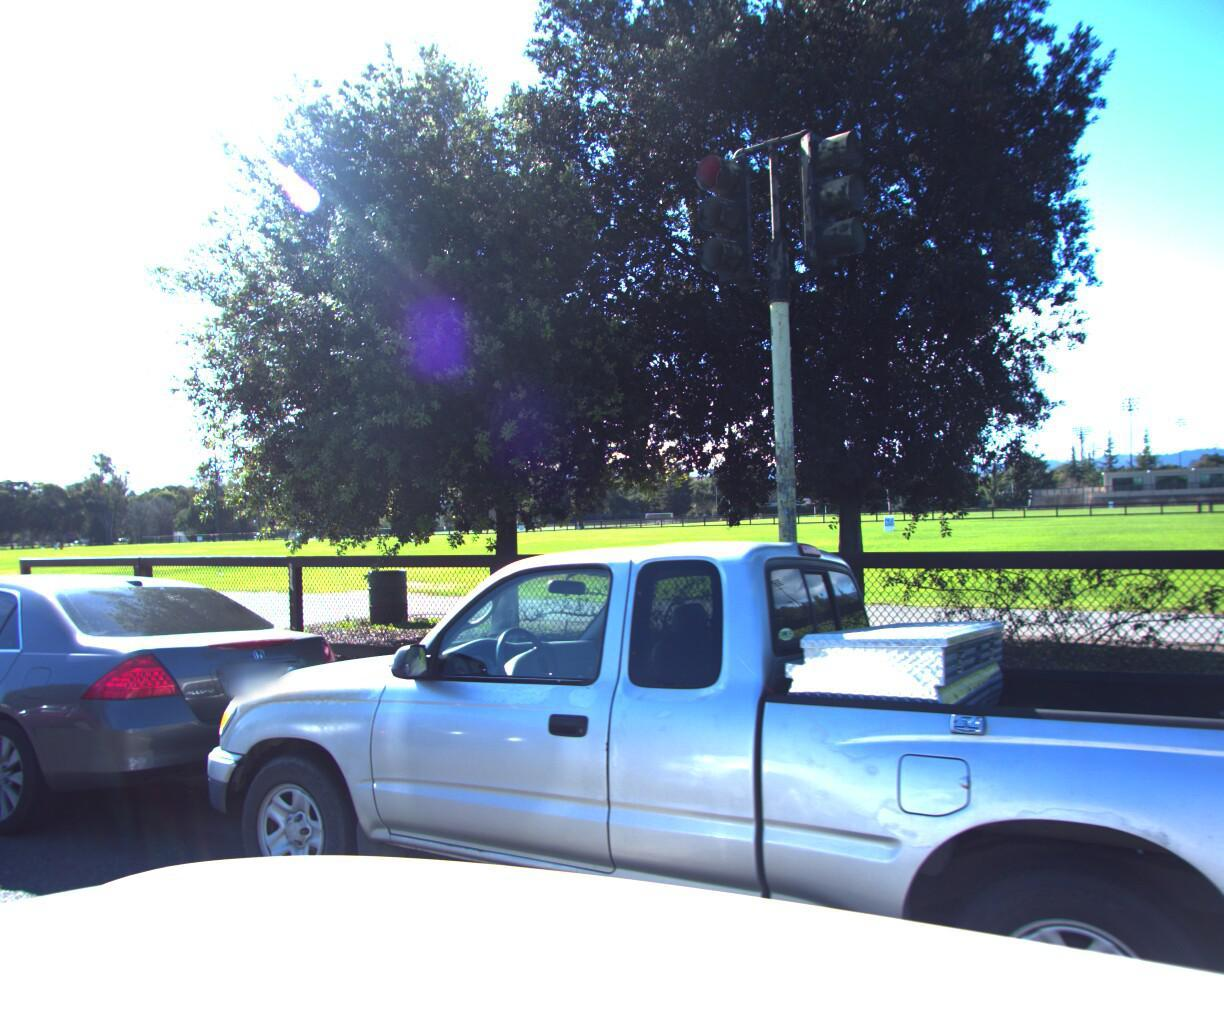car: (152, 513, 1224, 1024), (0, 547, 390, 896)
